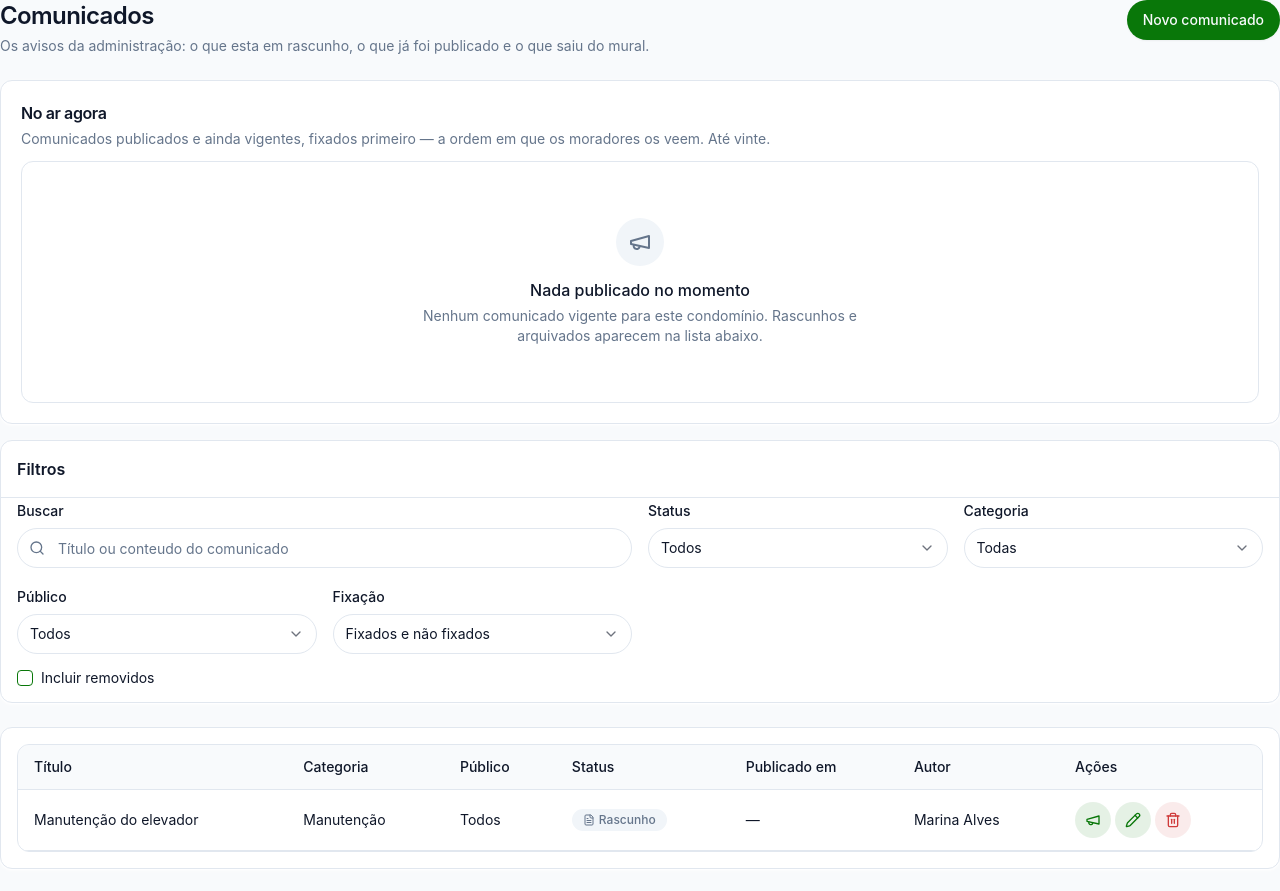
Scenario: Exclusao e restauração de comunicados › excluir pede confirmação antes de remover
The width and height of the screenshot is (1280, 891).
Expected: the text "Manutenção do elevador" is shown, [34,810,198,830]
Step 1. Click the button named "Excluir Manutenção do elevador" → (1173, 820), box [1155,802,1191,838]
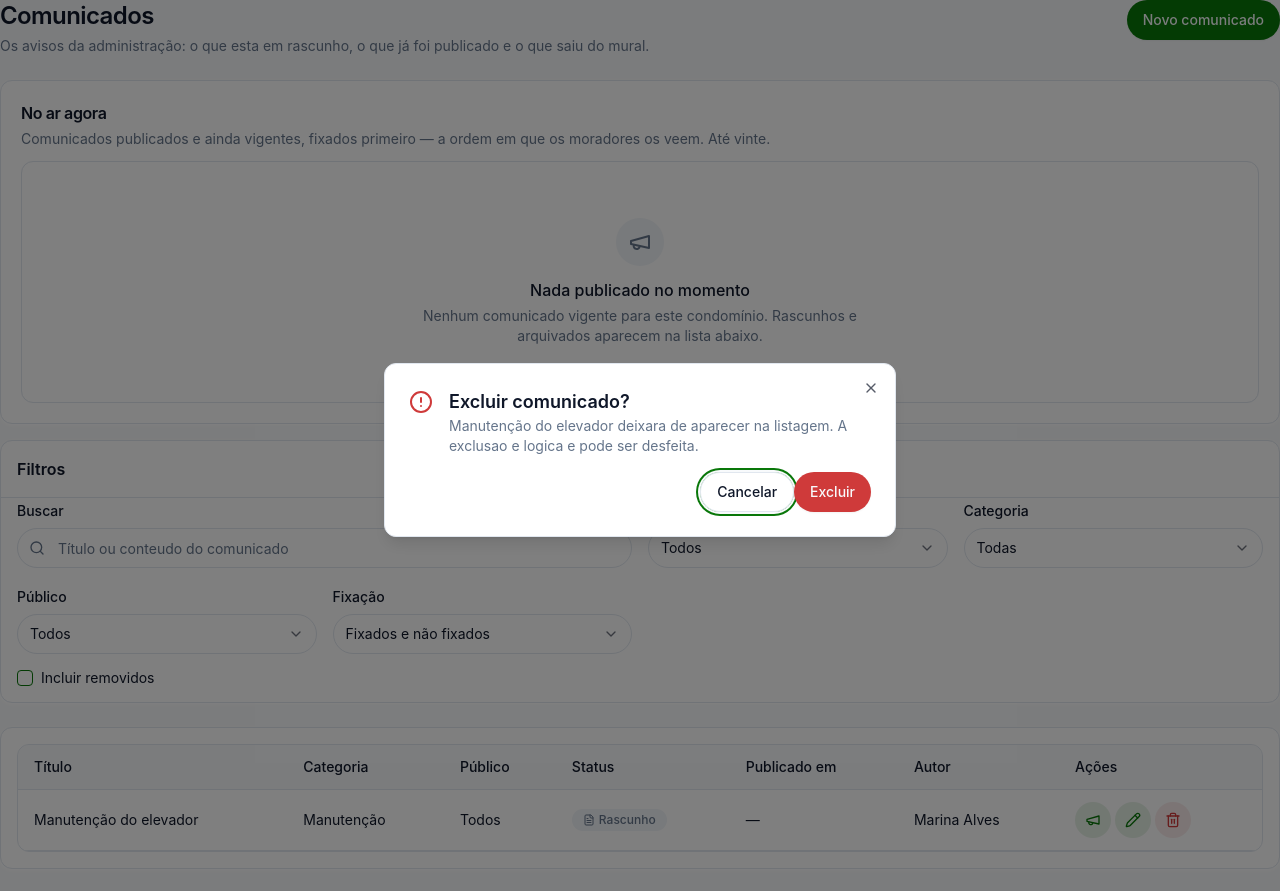
Expected: the heading "Excluir comunicado?" is shown, [449,391,630,412]
Step 2. Click the button "Excluir" → (833, 492), box [794,472,871,512]
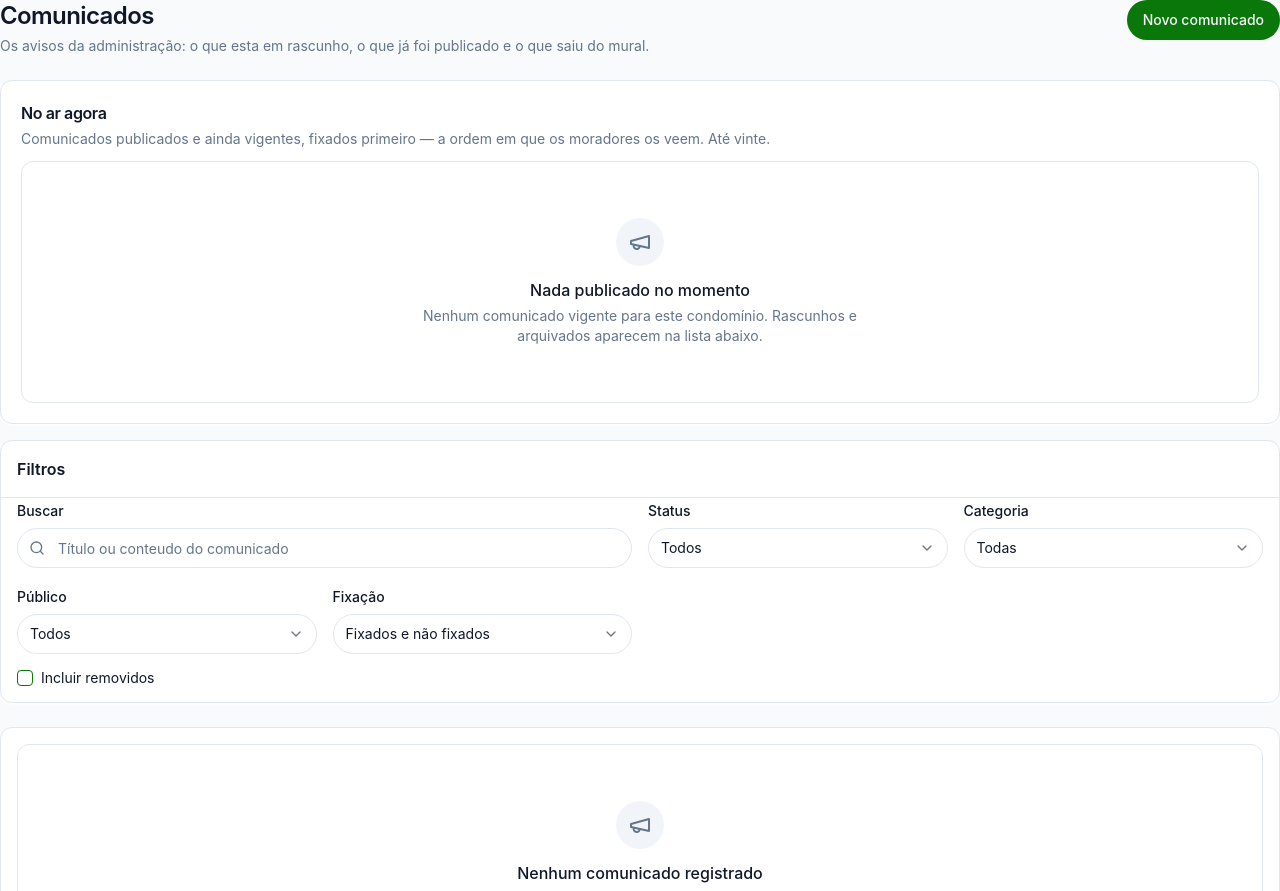
Expected: the text "Manutenção do elevador" is gone
